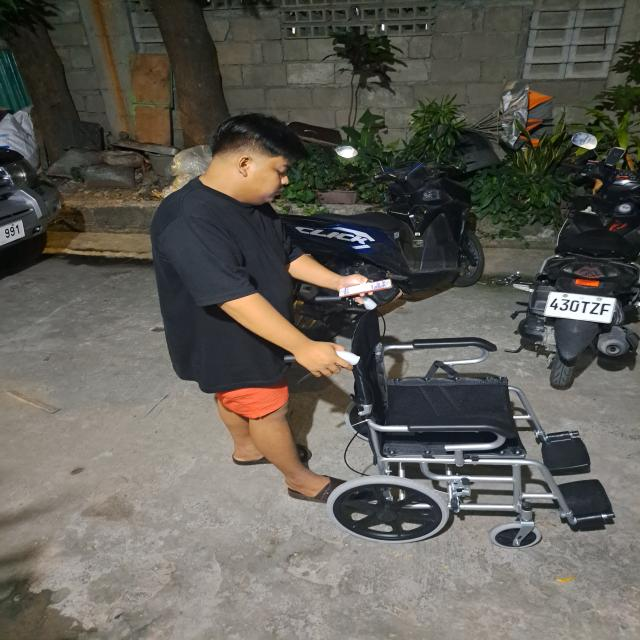wheelchairs: (301, 295, 618, 556)
